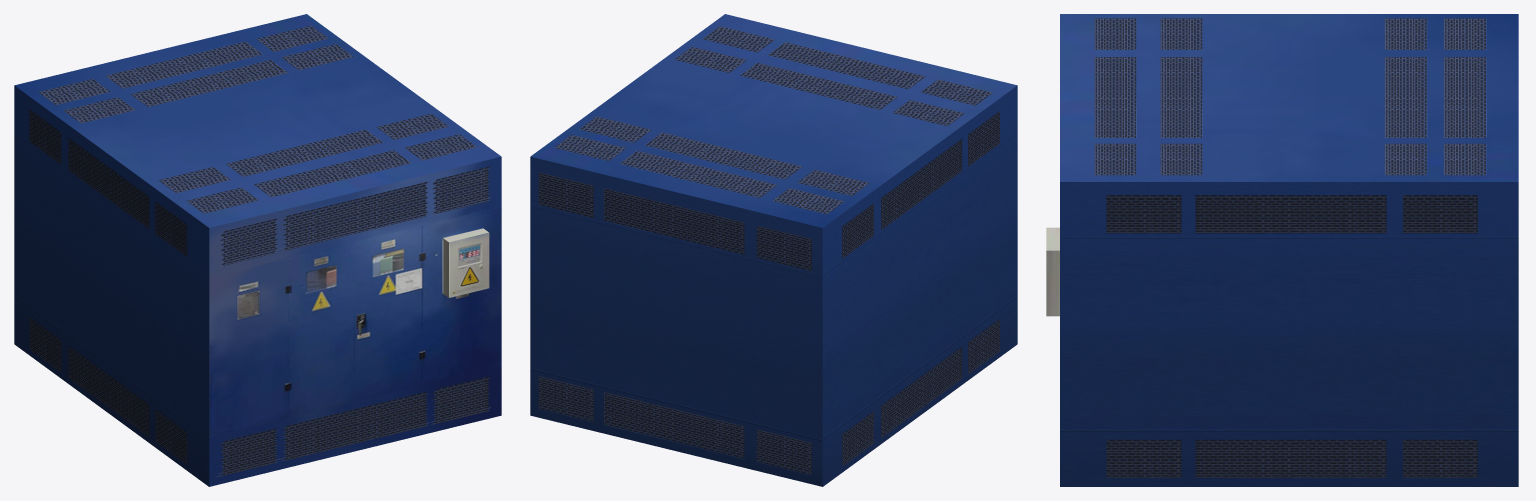
3 renders of one model, left to right at view 1: azimuth 30°, elevation 25°; view 2: azimuth 150°, elevation 25°; view 3: azimuth 270°, elevation 25°, orthographic. The views are drawn at different scales.
Parts seen in each view (by area): view 1: ???; view 2: ???; view 3: ???.
Boxes of the visible parts, x1,y1,x2,y2 form: ???: (14, 14, 501, 486); ???: (530, 14, 1017, 486); ???: (1046, 14, 1518, 486).
Size of the model in its own units: 263 by 221 by 311.
Materials: 1 (1 with a texture image).
